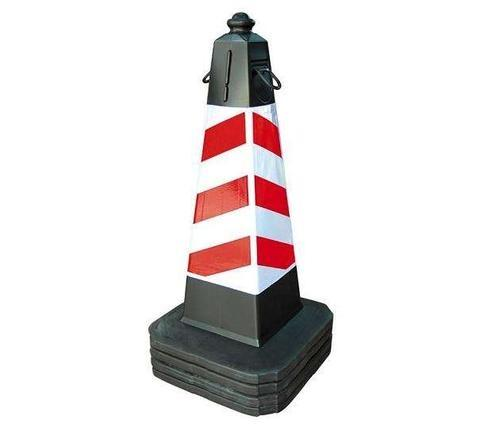cone_barrel: (159, 9, 327, 370)
